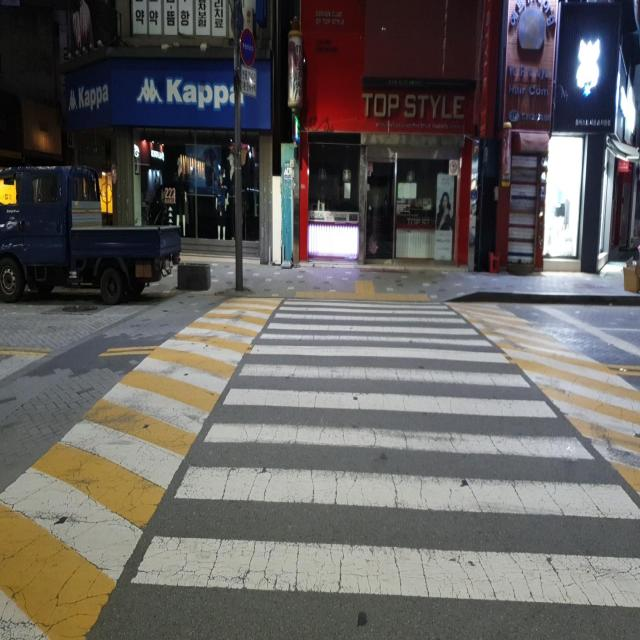횡단보도: (128, 299, 640, 611)
